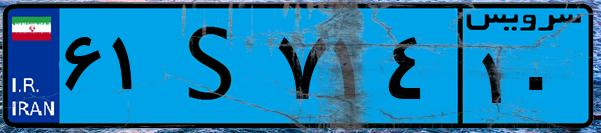0: (525, 38, 570, 115)
1: (330, 28, 385, 110), (475, 38, 525, 113), (110, 28, 158, 98)
4: (385, 28, 445, 110)
6: (57, 26, 110, 100)
7: (270, 28, 330, 110)
S: (158, 12, 270, 120)
